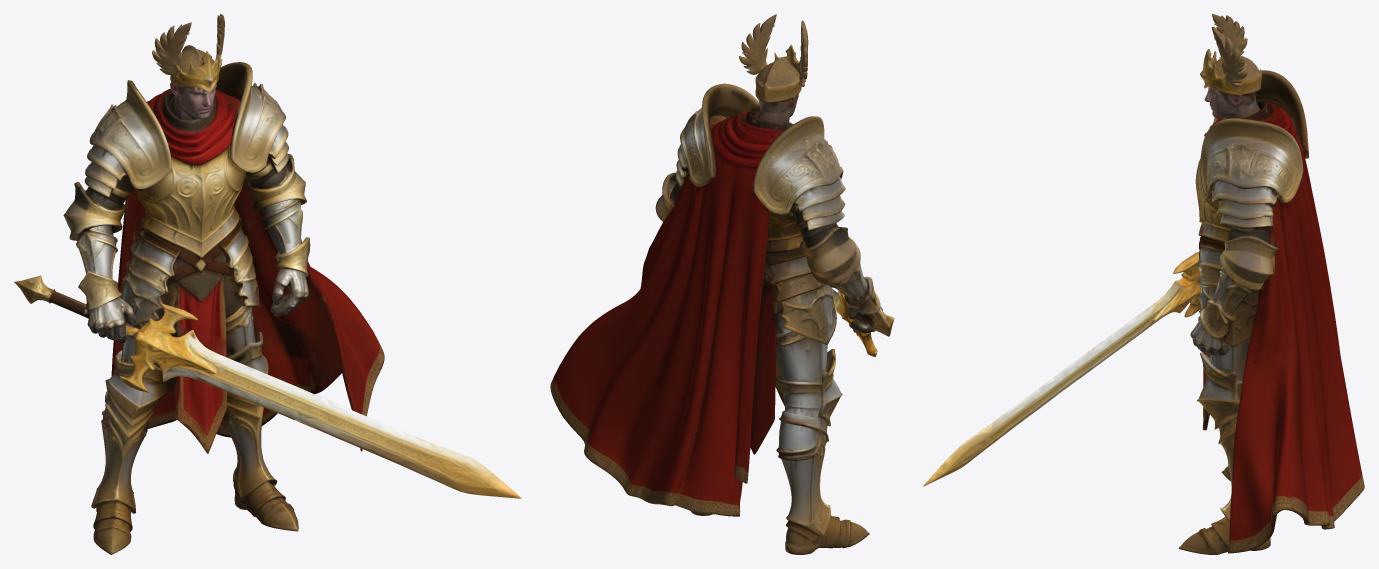
Rendered from hero_m_0.glb.
The picture shows the model from 3 angles, left to right: view 1: azimuth 30°, elevation 25°; view 2: azimuth 150°, elevation 25°; view 3: azimuth 270°, elevation 25°; orthographic projection. The views are drawn at different scales.
Visible parts, largest first — view 1: node_0; view 2: node_0; view 3: node_0.
Boxes of the visible parts, bbox=[...] form: node_0: bbox=[14, 14, 521, 554]; node_0: bbox=[550, 14, 894, 554]; node_0: bbox=[923, 14, 1364, 554].
Size of the model in its own units: 0.7271 by 0.9952 by 0.807.
1 material, 1 textured.
